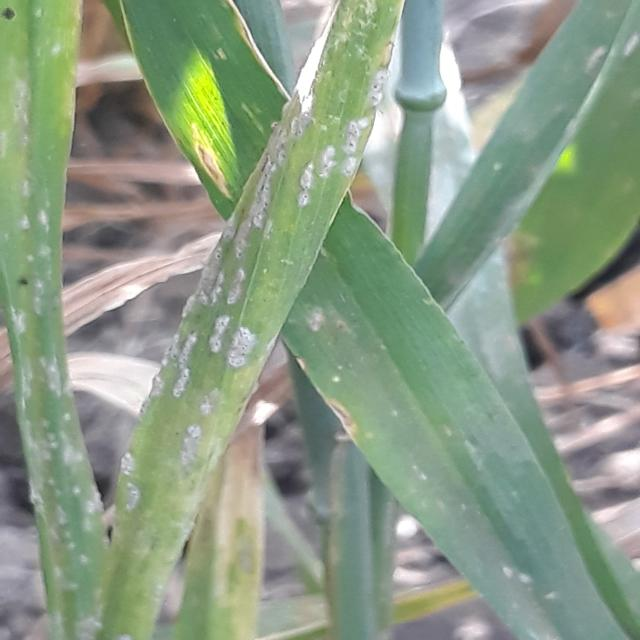powder_mildew: (108, 0, 564, 640), (0, 0, 107, 640), (448, 1, 640, 344)
